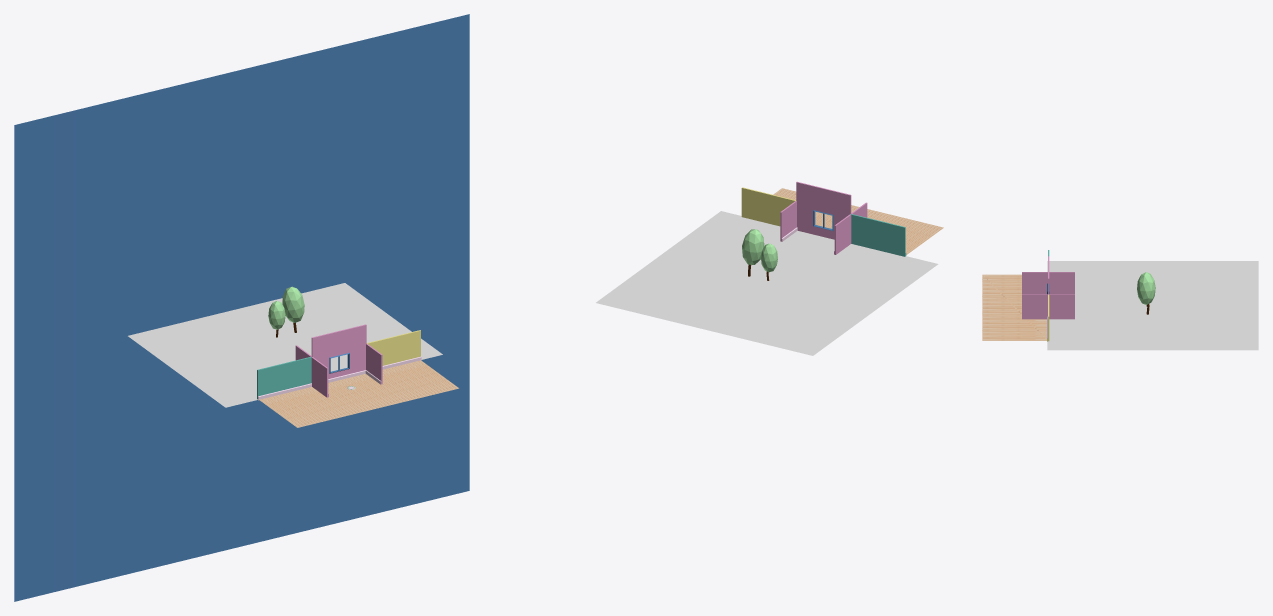
Rendered from jelly-world.gltf.
3 renders of one model, left to right at view 1: azimuth 30°, elevation 25°; view 2: azimuth 150°, elevation 25°; view 3: azimuth 270°, elevation 25°, orthographic. The views are drawn at different scales.
Visible parts, largest first — view 1: Plane.001, Plane.002, Plane, wall, wall.001, wall.002, wall.003, Cylinder.001; view 2: Plane.002, wall, wall.001, Plane, wall.002, wall.003, Cylinder.001; view 3: Plane.002, Plane, wall.004, wall.003, Cylinder.001.
Boxes of the visible parts, left/top/right/bottom form: Plane.001: left=14, top=14, right=469, bottom=601; Plane.002: left=128, top=283, right=442, bottom=407; Plane: left=259, top=360, right=458, bottom=427; wall: left=311, top=324, right=366, bottom=382; wall.001: left=257, top=356, right=311, bottom=400; wall.002: left=367, top=330, right=421, bottom=369; wall.003: left=295, top=345, right=328, bottom=397; Cylinder.001: left=282, top=286, right=304, bottom=332; Plane.002: left=596, top=211, right=938, bottom=355; wall: left=796, top=181, right=851, bottom=239; wall.001: left=851, top=214, right=906, bottom=256; Plane: left=773, top=188, right=943, bottom=254; wall.002: left=741, top=187, right=795, bottom=226; wall.003: left=834, top=202, right=867, bottom=254; Cylinder.001: left=742, top=229, right=764, bottom=276; Plane.002: left=1047, top=261, right=1258, bottom=350; Plane: left=982, top=274, right=1046, bottom=340; wall.004: left=1022, top=294, right=1074, bottom=319; wall.003: left=1022, top=272, right=1074, bottom=294; Cylinder.001: left=1137, top=272, right=1155, bottom=314.
Size of the model in its own units: 33.5 by 33.5 by 20.92.
2 materials, 2 textured.
